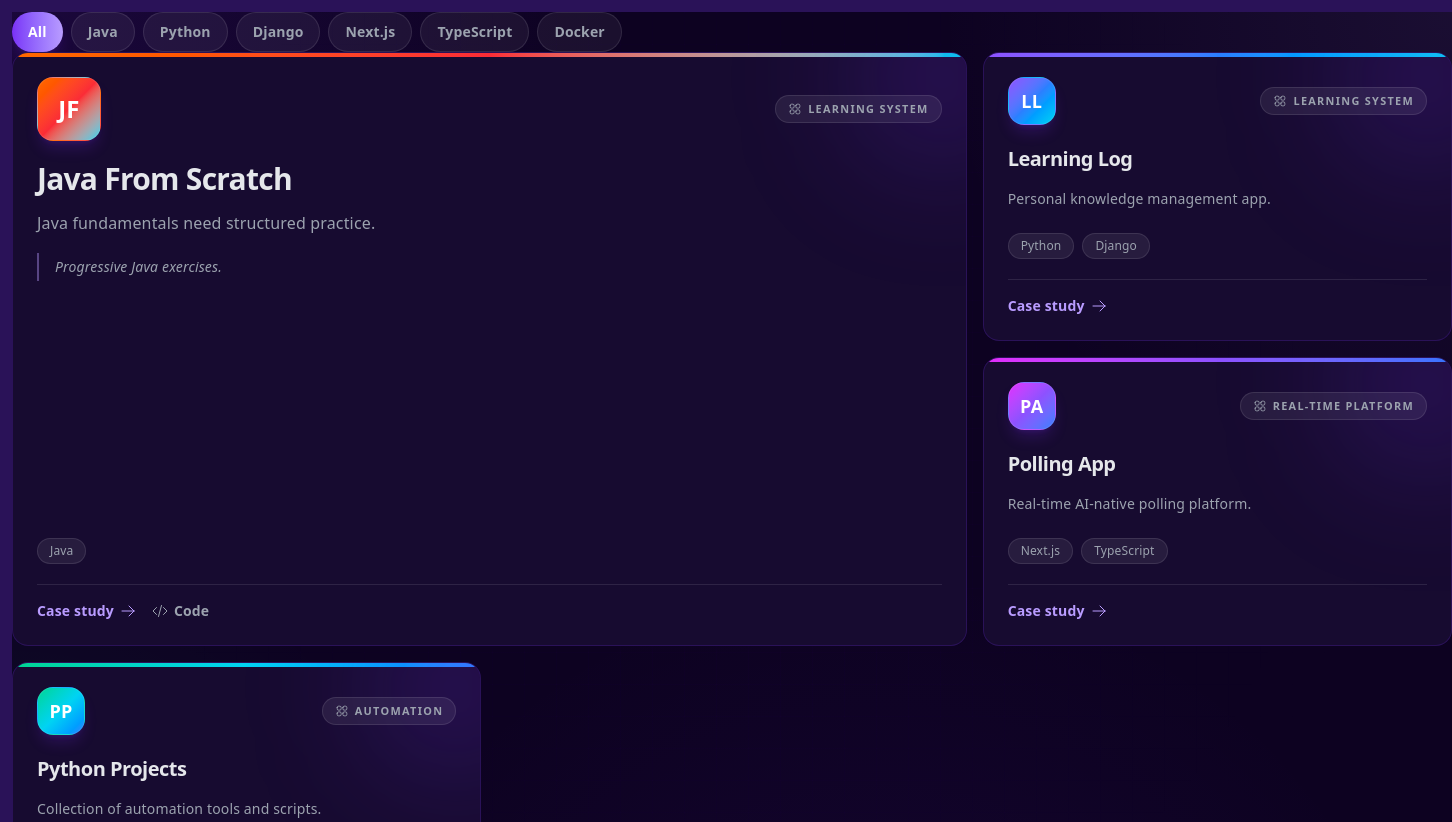
Test case: ProjectsPage › filters the Java project and exposes its GitHub indicator
Click the button "Java": (103, 32) [71,12,135,52]
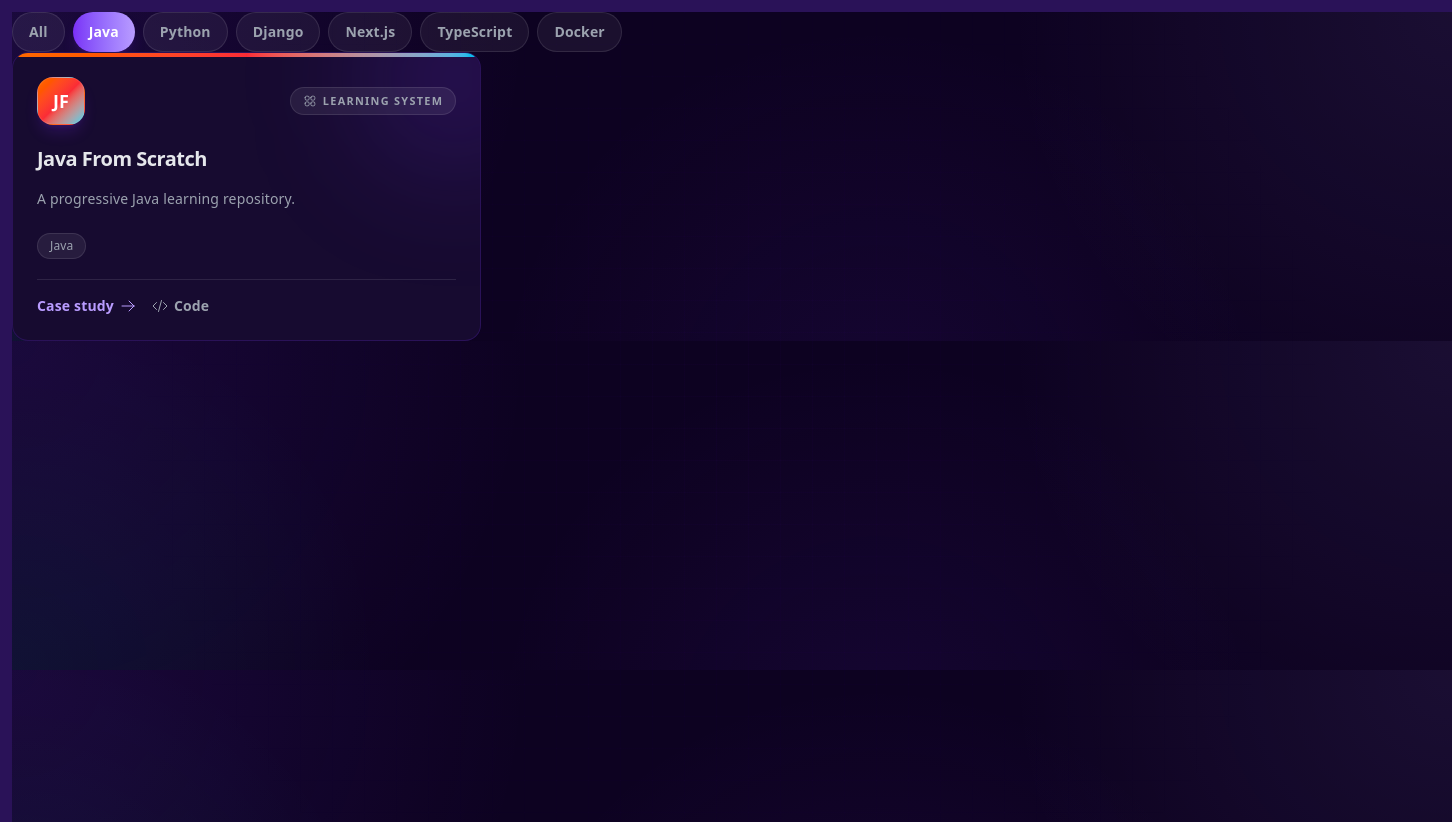
Check: the heading "Java From Scratch" is shown, box [37,145,207,172]
Check: the link "Learning Log" is gone
